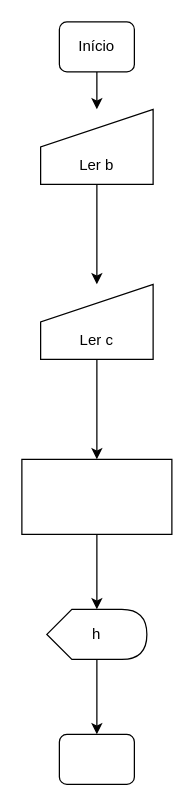
The diagram is 194 pixels wide and 806 high, and some of its shapes have lost their labels. The shapes that lost their labels are listed below. From the top down, each one's centre as x and y in pixels, then its label:
[96,496]: h = raiz de (b*b + c*c)
[96,758]: Fim
